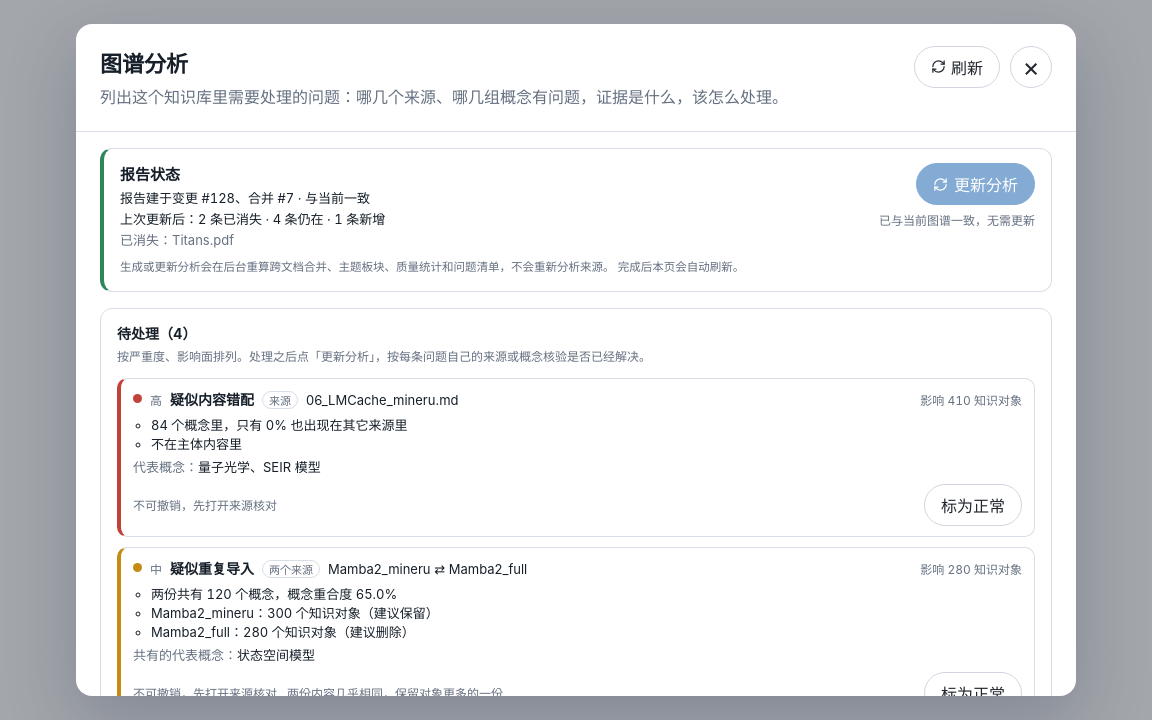
it: 标为正常之后总览也重取：豁免数从 0 变成 1，「已标为正常」那一页这才去取
Click the button "标为正常" below "影响 410 知识对象".
click(973, 504)  # box [924, 484, 1022, 526]
(page scrolled)
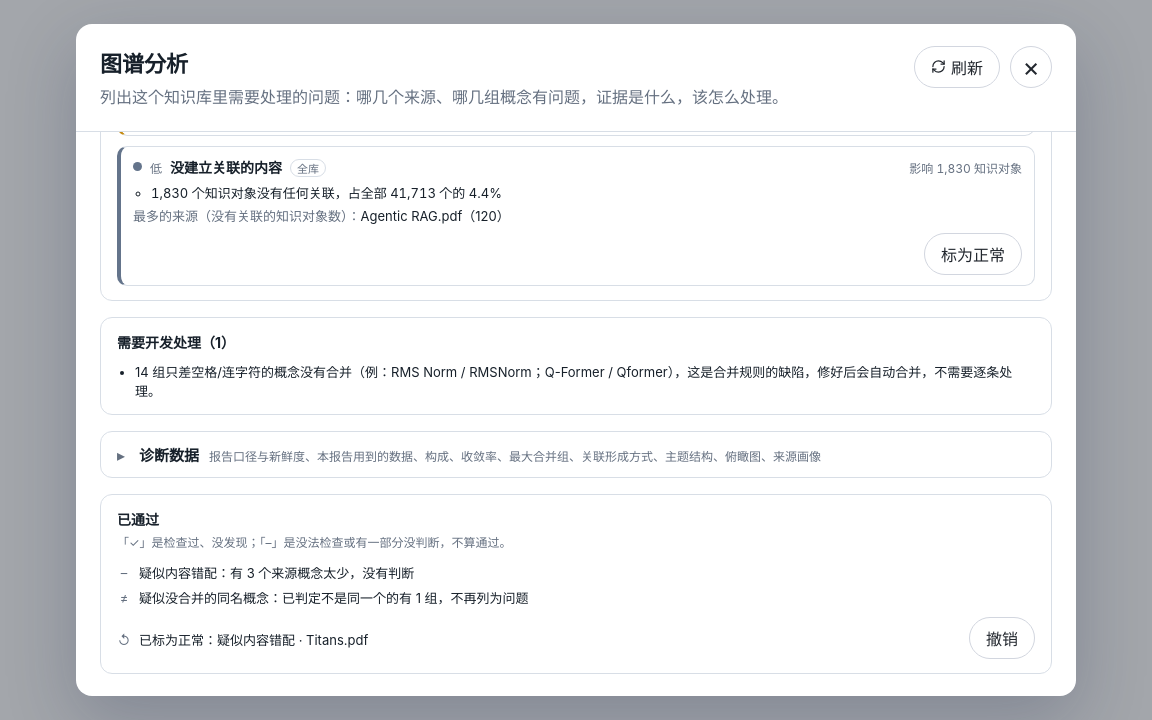
Expected: the text "已标为正常：疑似内容错配 · Titans.pdf" is shown, [139, 632, 368, 648]
